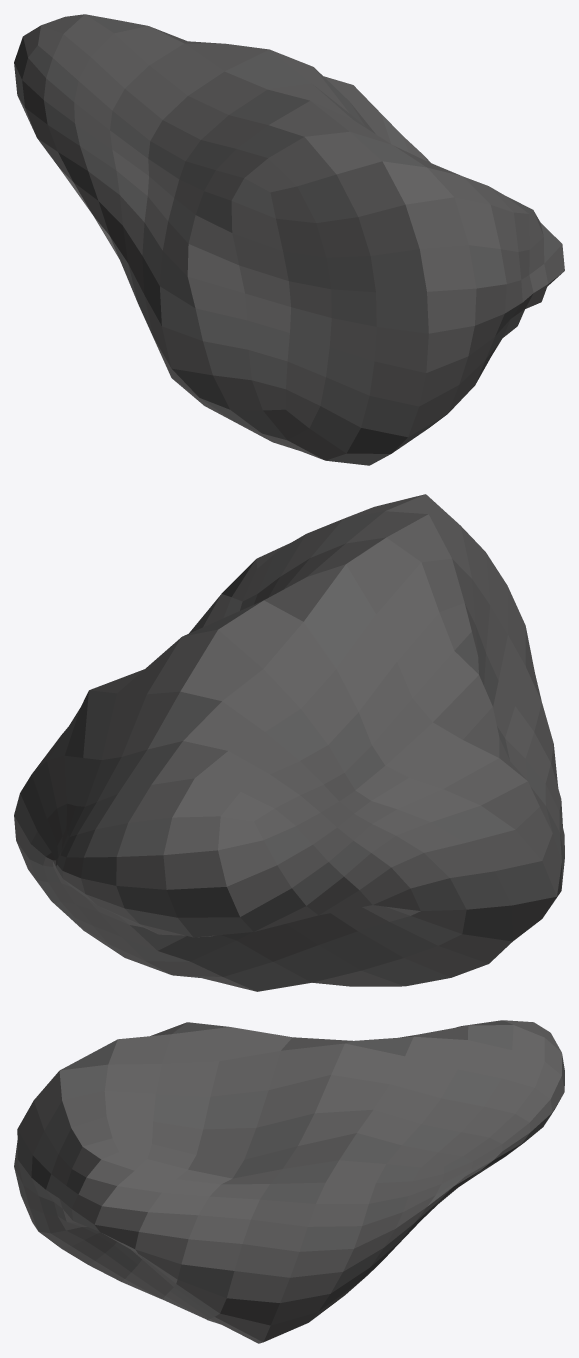
Rendered from rock3.fbx.
3 views of the same model, one above another, from view 1: azimuth 30°, elevation 25°; view 2: azimuth 150°, elevation 25°; view 3: azimuth 270°, elevation 25° (orthographic). The views are drawn at different scales.
Parts seen in each view (by area): view 1: rock3; view 2: rock3; view 3: rock3.
Boxes of the visible parts, left/top/right/bottom form: rock3: left=14, top=14, right=564, bottom=465; rock3: left=14, top=494, right=564, bottom=991; rock3: left=14, top=1020, right=564, bottom=1343.
Size of the model in its own units: 137 by 125 by 225.
